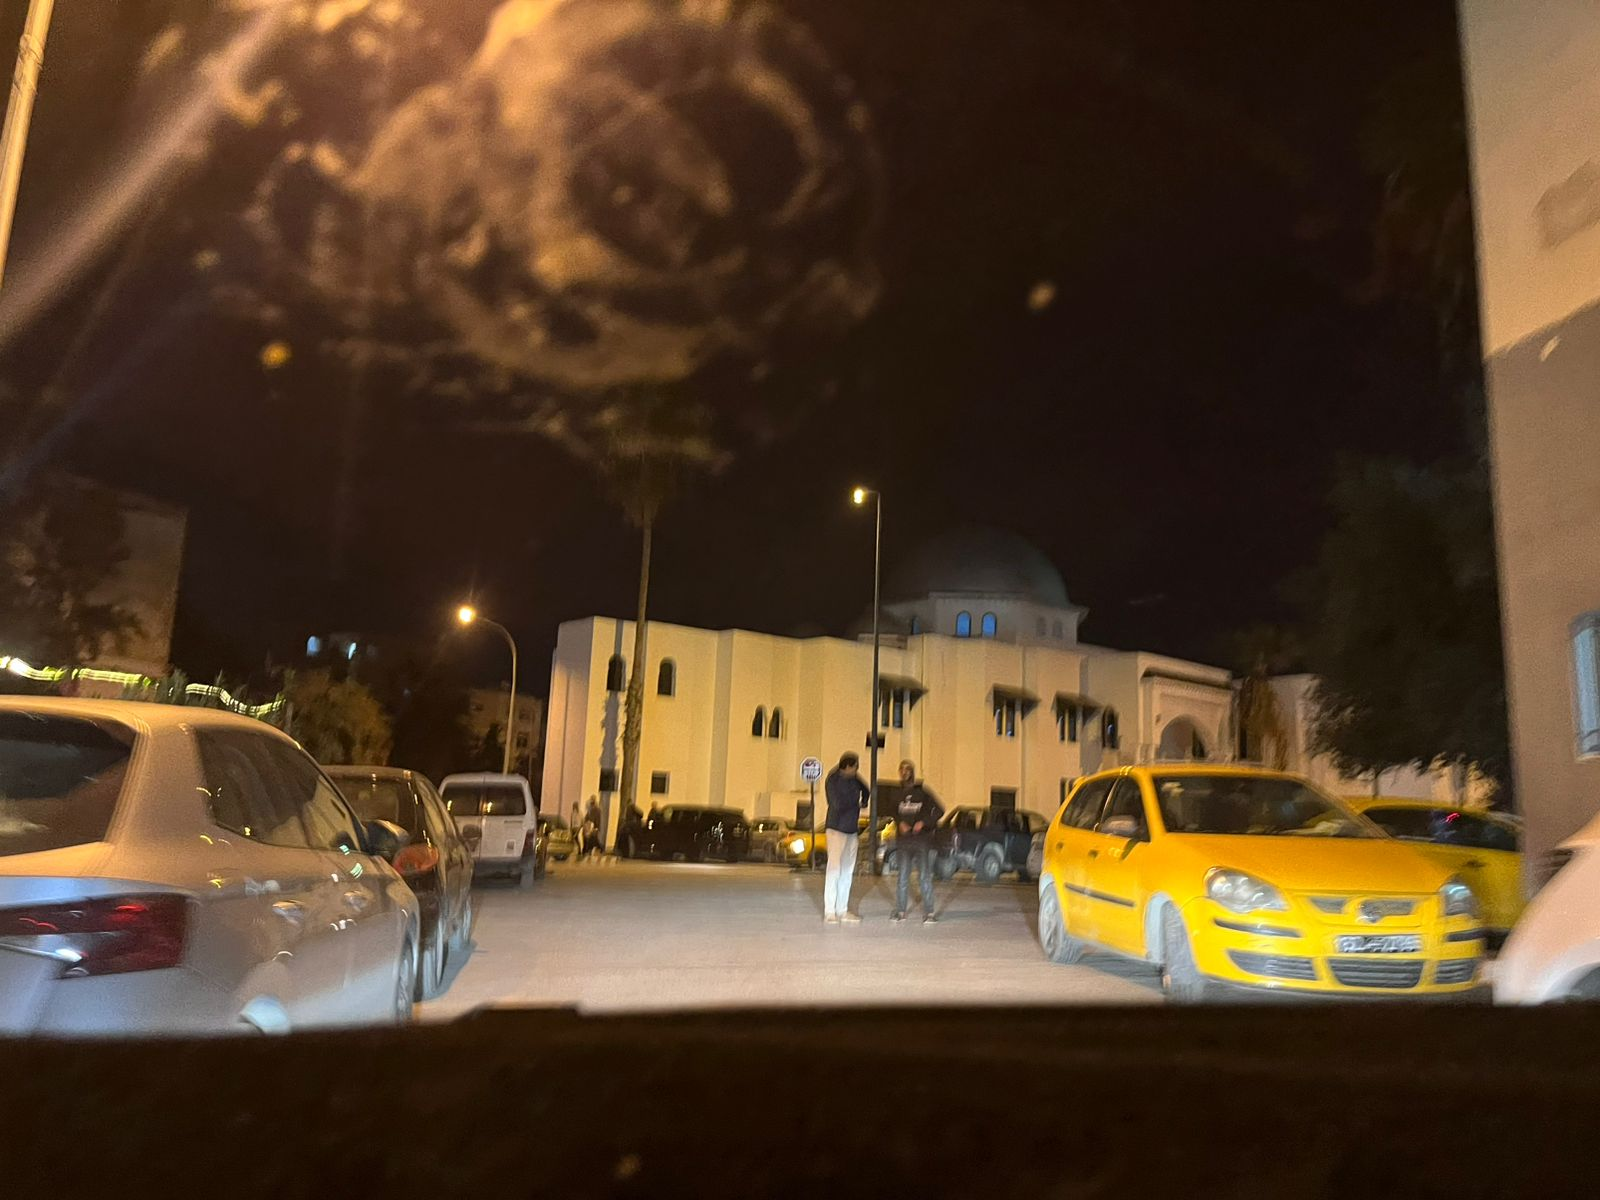Stop: (799, 756, 823, 782)
